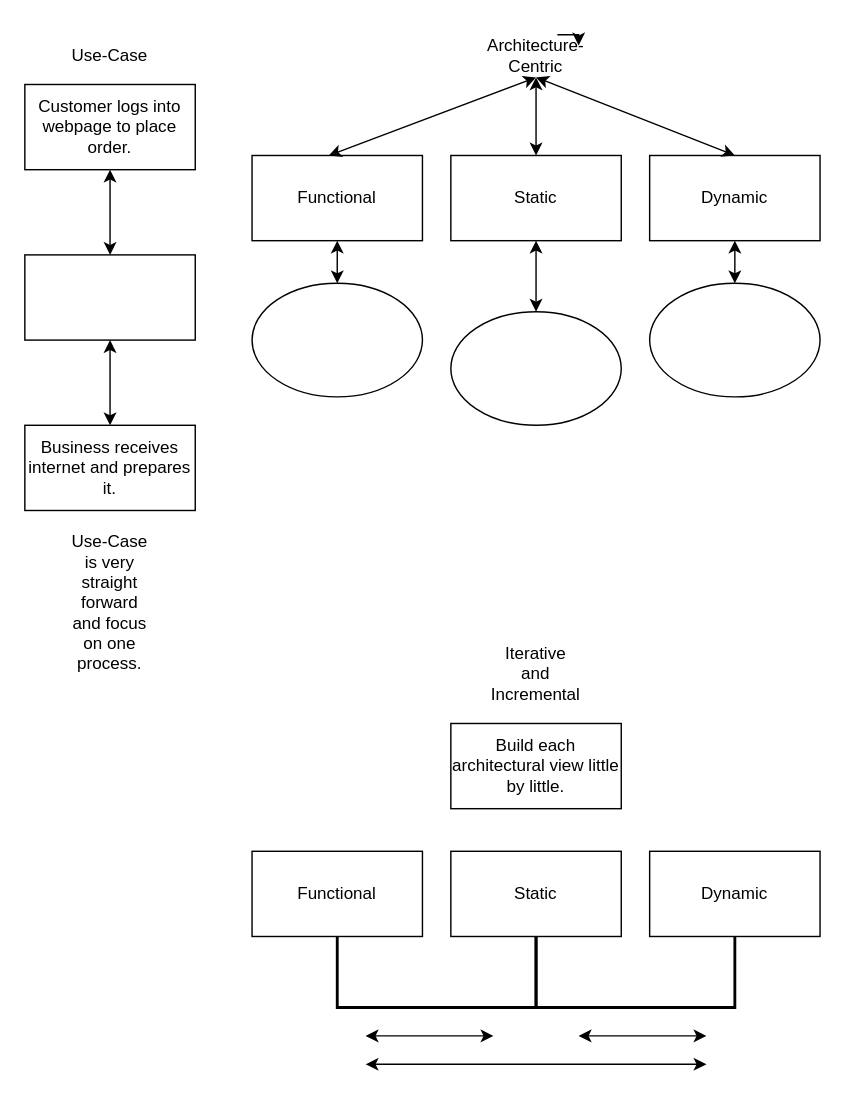
The diagram is 845 pixels wide and 1102 high, and some of its shapes have lost their labels. The box of each missing label's shape, as (x1, y1, x2, y2) in pixels:
Behavior of system from user POV.: (251, 282, 422, 397)
Describes by stating the terms passed along nodes, also states the change.: (648, 282, 820, 397)
Describes in terms of class, attributes, or a form of cathegory: (449, 310, 621, 425)
Order goes across the internet.: (23, 253, 195, 340)
